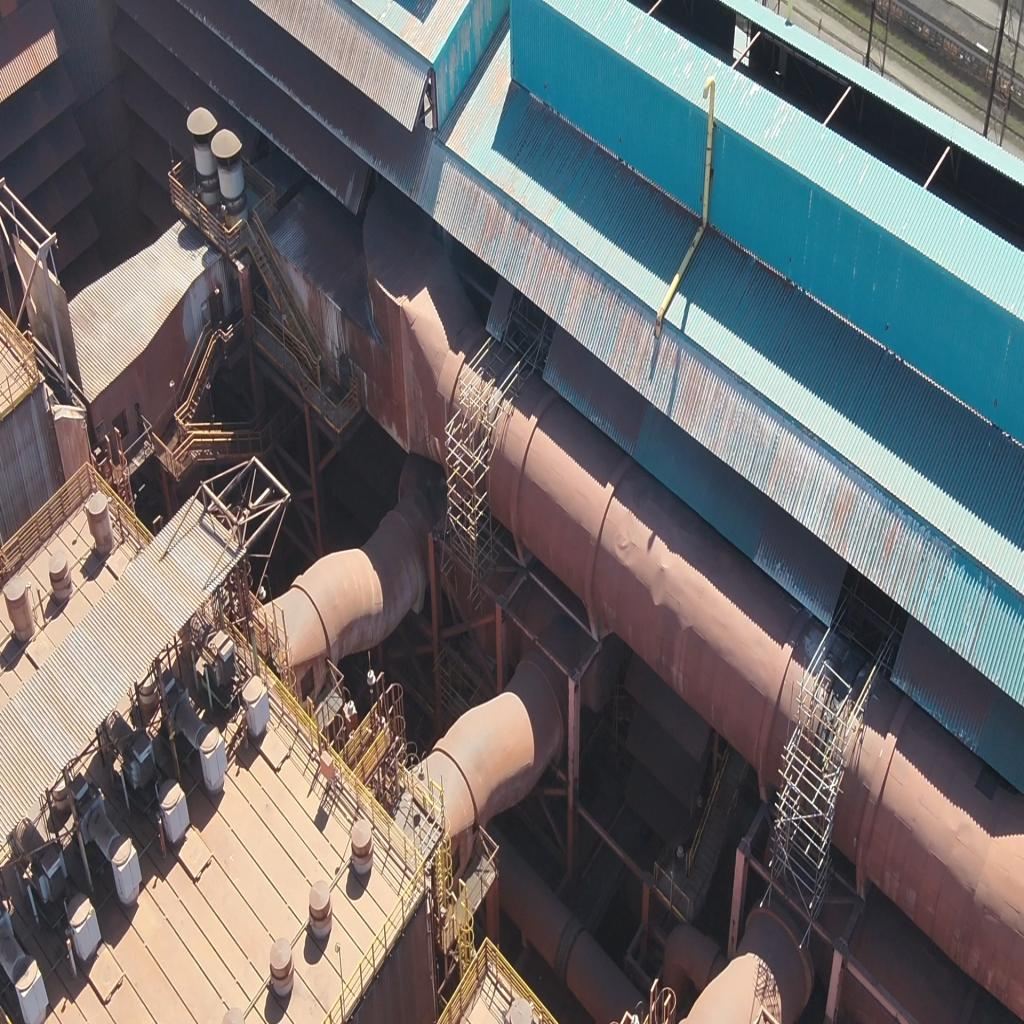Failures: (977, 761, 998, 801)
